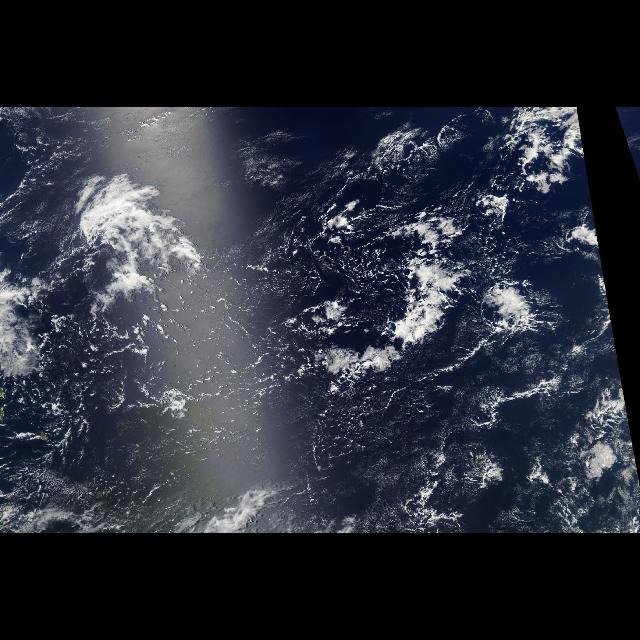Gravel: (56, 184, 396, 462)
Sugar: (280, 372, 448, 528), (175, 268, 275, 487)
